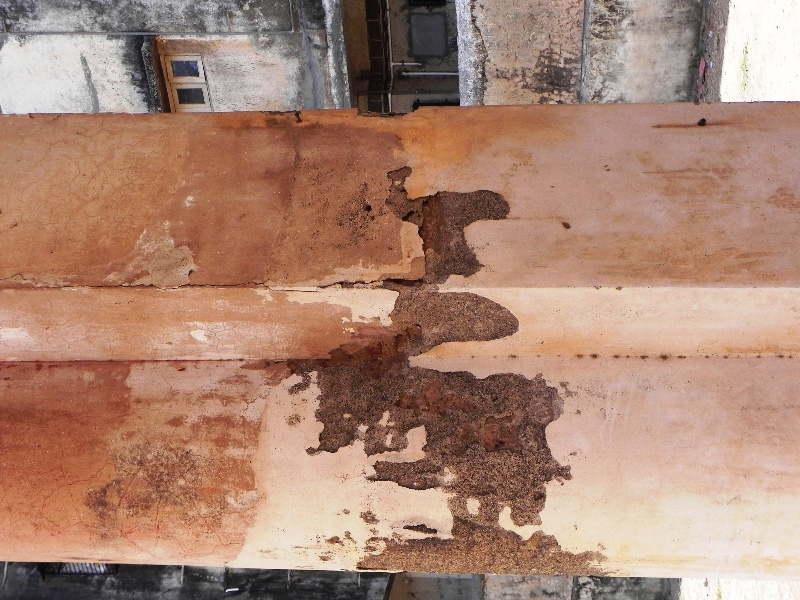Spalling: (270, 348, 607, 576), (362, 159, 523, 355)
